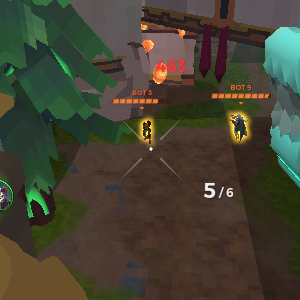model: (228, 106, 247, 148), (137, 112, 155, 148)
